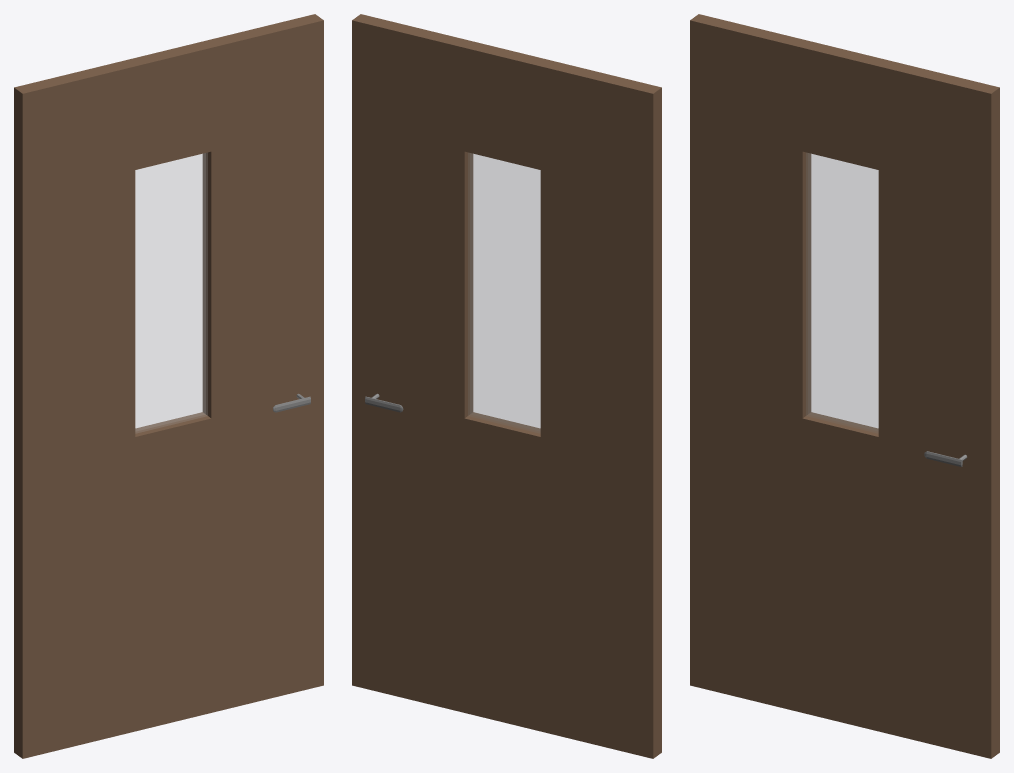
File: Porta.fbx
3 renders of one model, left to right at view 1: azimuth 30°, elevation 25°; view 2: azimuth 150°, elevation 25°; view 3: azimuth 330°, elevation 25°, orthographic.
Parts seen in each view (by area): view 1: Cube; view 2: Cube; view 3: Cube.
Part boxes in pixels (<box>): Cube: <box>14,14,323,758</box>; Cube: <box>352,14,661,758</box>; Cube: <box>690,14,999,758</box>.
Bounding box in the file's own units: 200 × 422 × 29.21.
